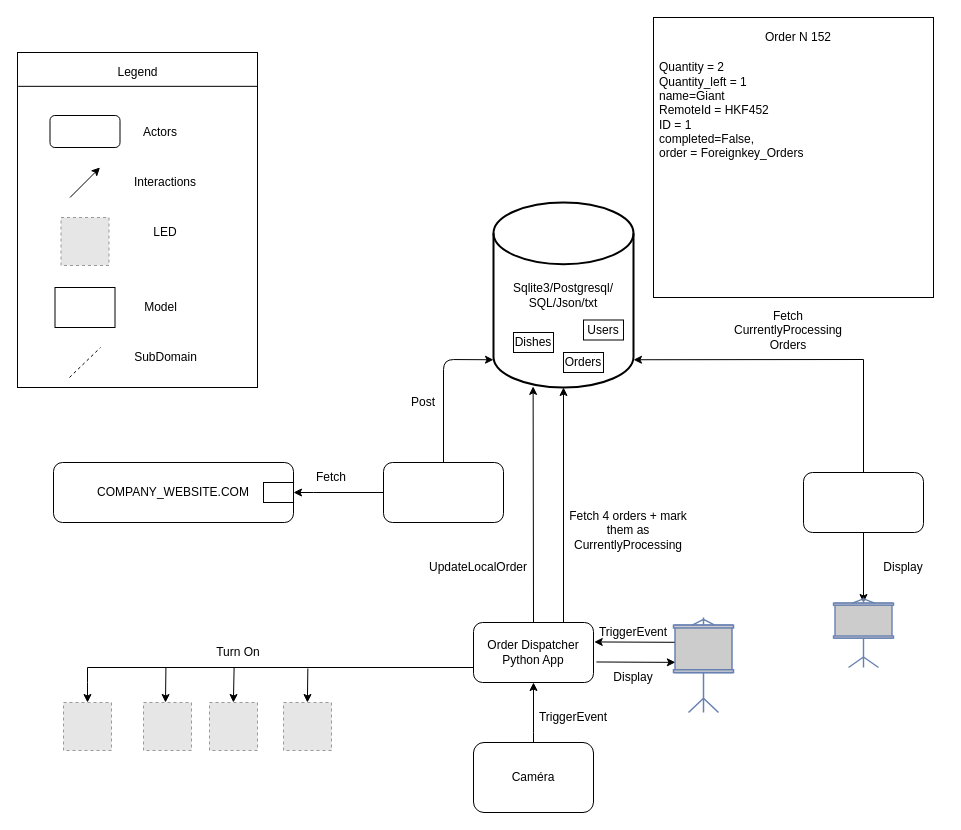
Image size: 961x830. Some labels were removed from this diagram. Grey dashed boxes stand in for pictures. The shapes that lost their labels are listed below. From the top down, each one's centre as x and y in pixels, then its label:
point 278,492: API
point 443,492: Order Retriever Python App
point 863,502: Order Displayer Python App
point 703,664: Screen to Confirm number
